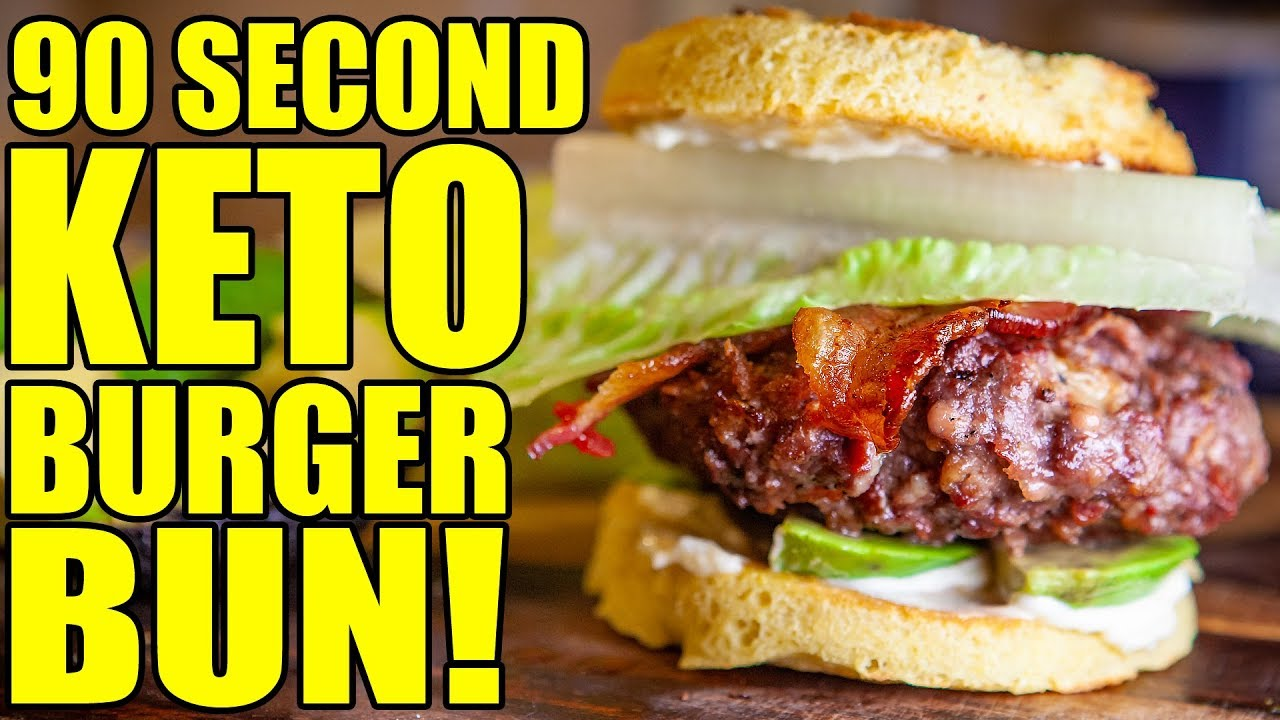hamburger_buns: (613, 4, 1220, 720)
